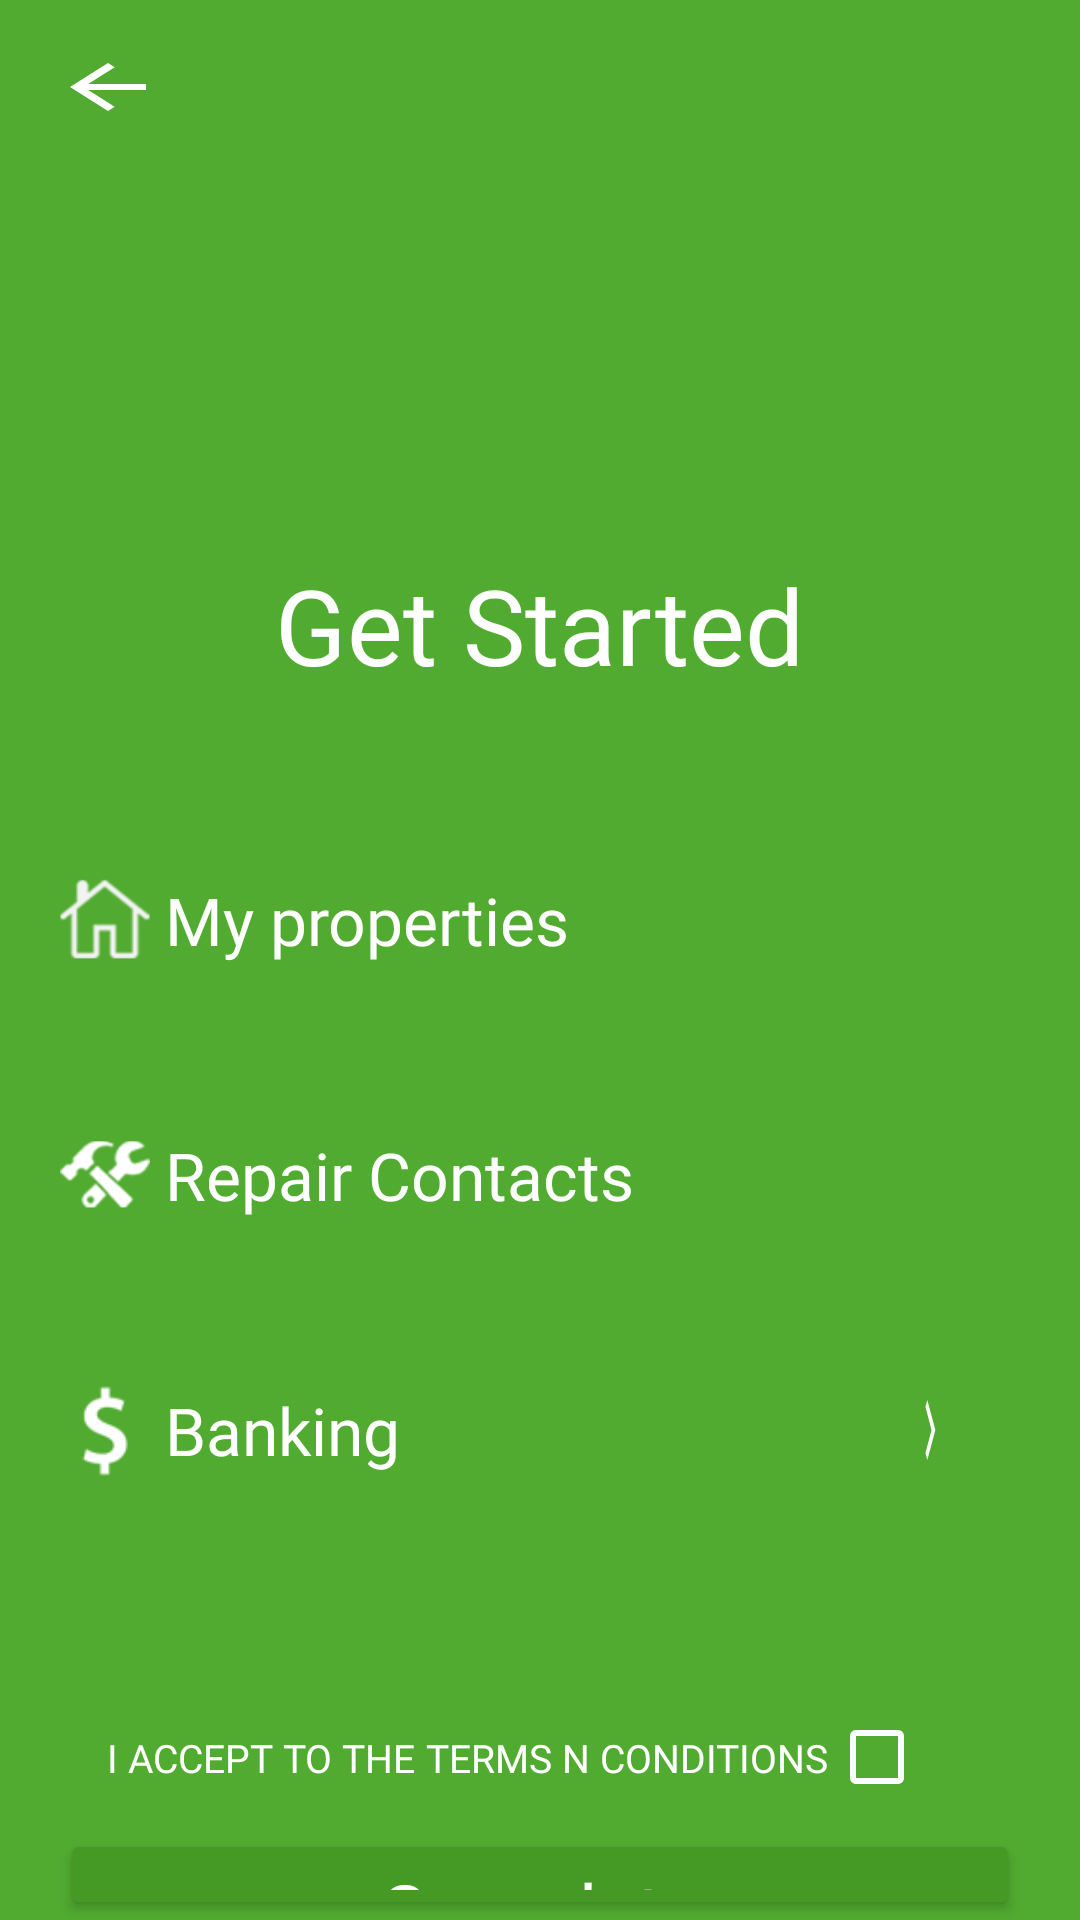

Icons on this 1080 x 1920 Android screen, each with its box as [left=x1, top=y1, right=x2, bottom=y2]:
back arrow: [left=70, top=63, right=146, bottom=111]
dollar: [left=82, top=1386, right=128, bottom=1476]
home: [left=60, top=880, right=150, bottom=959]
right: [left=925, top=1400, right=936, bottom=1460]
